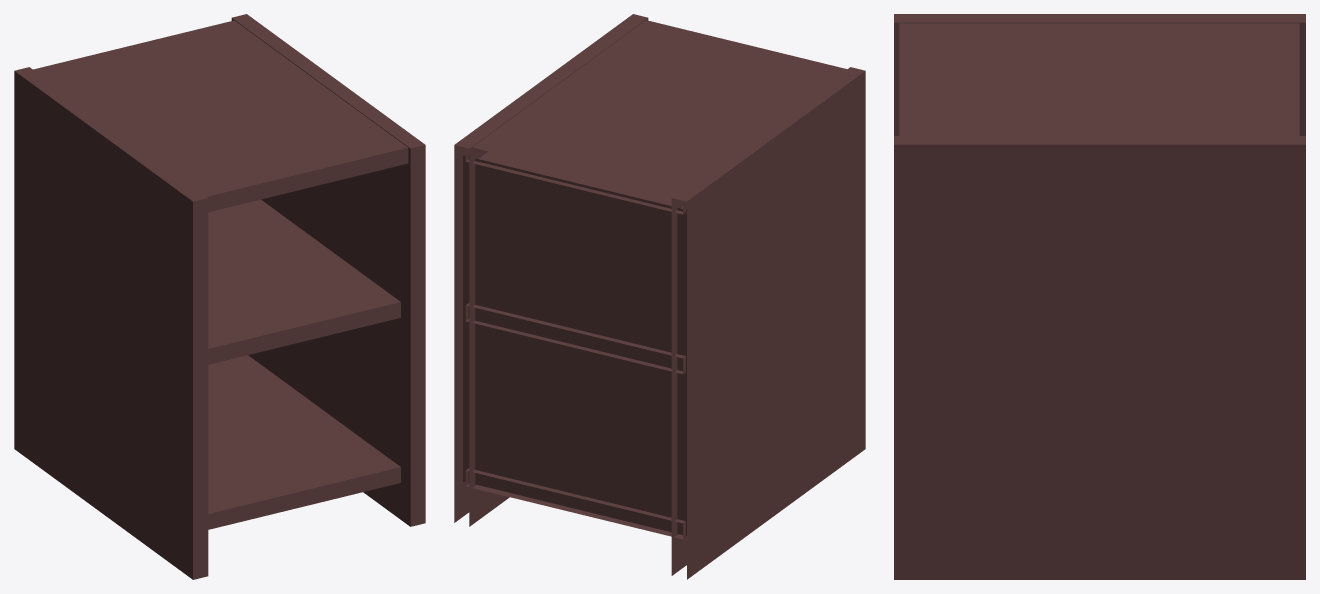
File: shelves3.obj
The picture shows the model from 3 angles, left to right: view 1: azimuth 30°, elevation 25°; view 2: azimuth 150°, elevation 25°; view 3: azimuth 270°, elevation 25°; orthographic projection. The views are drawn at different scales.
Visible parts, largest first — view 1: shelves3; view 2: shelves3; view 3: shelves3.
Part boxes in pixels (x1,y1,x2,y2): shelves3: (14,14,425,579); shelves3: (454,14,865,579); shelves3: (894,14,1305,579).
Bounding box in the file's own units: 0.5083 × 0.7901 × 0.6772.
